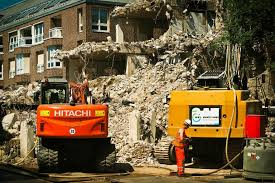excavator: (153, 45, 259, 162), (36, 77, 118, 173)
